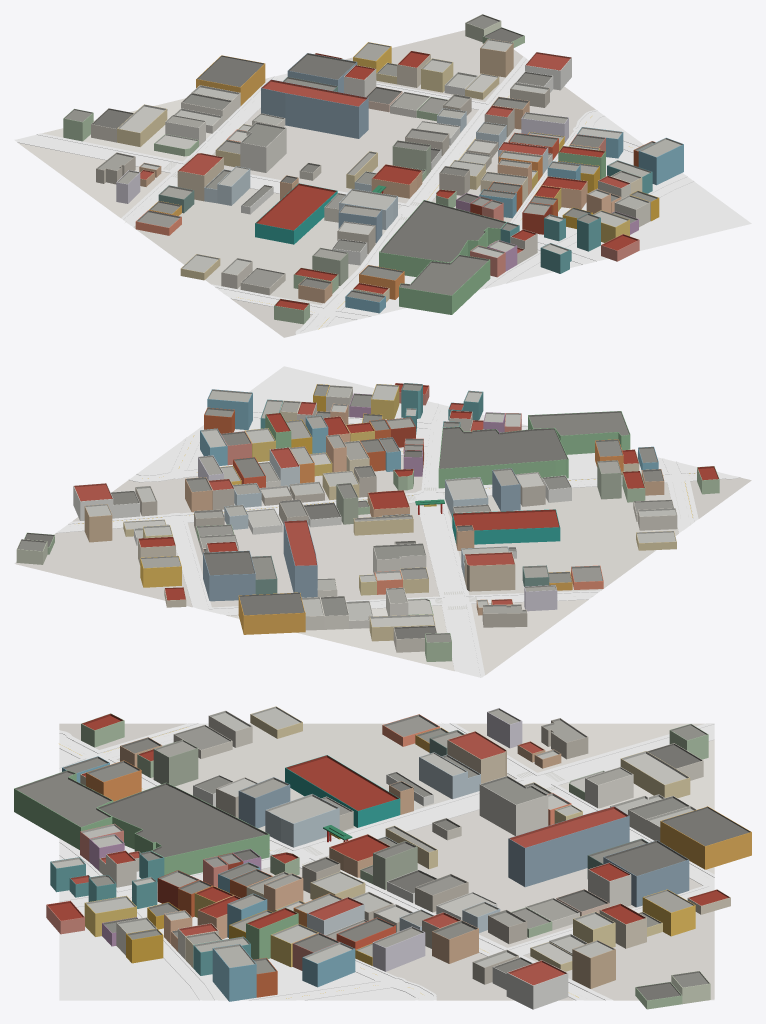
The picture shows the model from 3 angles, top to bottom: view 1: azimuth 30°, elevation 25°; view 2: azimuth 150°, elevation 25°; view 3: azimuth 270°, elevation 25°; orthographic projection. The views are drawn at different scales.
Parts seen in each view (by area): view 1: walls, roofs, ground, asphalt, plaza, sidewalk, pavers; view 2: roofs, walls, ground, asphalt, sidewalk, plaza, pavers, markings; view 3: walls, roofs, ground, plaza, asphalt, sidewalk, pavers, markings.
Boxes of the visible parts, left/top/right/bottom form: walls: left=63, top=21, right=683, bottom=324; roofs: left=63, top=14, right=683, bottom=310; ground: left=18, top=30, right=595, bottom=337; asphalt: left=123, top=59, right=692, bottom=333; plaza: left=326, top=116, right=751, bottom=327; sidewalk: left=14, top=56, right=694, bottom=334; pavers: left=16, top=134, right=408, bottom=213; roofs: left=17, top=383, right=719, bottom=642; walls: left=16, top=385, right=719, bottom=661; ground: left=16, top=453, right=751, bottom=675; asphalt: left=60, top=404, right=734, bottom=614; sidewalk: left=14, top=403, right=740, bottom=677; plaza: left=138, top=366, right=696, bottom=490; pavers: left=421, top=499, right=480, bottom=677; markings: left=70, top=411, right=694, bottom=612; walls: left=14, top=712, right=751, bottom=1009; roofs: left=14, top=706, right=751, bottom=1000; ground: left=59, top=723, right=714, bottom=1000; plaza: left=59, top=748, right=415, bottom=1000; asphalt: left=59, top=723, right=714, bottom=1000; sidewalk: left=59, top=723, right=714, bottom=1000; pavers: left=295, top=724, right=714, bottom=858; markings: left=59, top=722, right=707, bottom=998.
Size of what is drawn, in the model's own units: 266 by 16.44 by 281.
